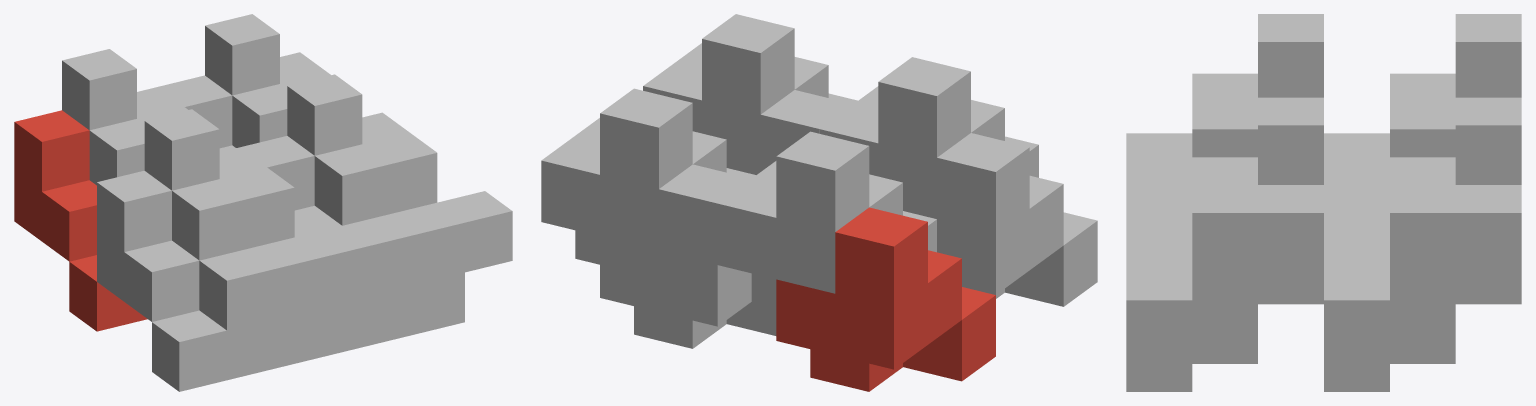
The model's file is tiling.obj.
3 views of the same model, side by side, from view 1: azimuth 30°, elevation 25°; view 2: azimuth 150°, elevation 25°; view 3: azimuth 270°, elevation 25° (orthographic). The views are drawn at different scales.
Visible parts, largest first — view 1: copy_1_domain_4, copy_1_domain_8, copy_1_domain_2, copy_1_domain_1, copy_1_domain_6, copy_1_domain_3, copy_1_domain_7, copy_1_domain_5; view 2: copy_1_domain_1, copy_1_domain_2, copy_1_domain_3, copy_1_domain_7, copy_1_domain_5, copy_1_domain_4, copy_1_domain_8, copy_1_domain_6; view 3: copy_1_domain_7, copy_1_domain_8, copy_1_domain_3, copy_1_domain_4, copy_1_domain_5, copy_1_domain_6.
Boxes of the visible parts, box(x1,y1,x2,y2) form: copy_1_domain_4: box(144, 109, 369, 330); copy_1_domain_8: box(287, 74, 512, 295); copy_1_domain_2: box(97, 170, 321, 391); copy_1_domain_1: box(14, 110, 147, 331); copy_1_domain_6: box(240, 136, 464, 356); copy_1_domain_3: box(62, 49, 187, 185); copy_1_domain_7: box(205, 14, 330, 147); copy_1_domain_5: box(157, 75, 235, 151); copy_1_domain_1: box(776, 207, 995, 391); copy_1_domain_2: box(937, 133, 1097, 306); copy_1_domain_3: box(717, 131, 936, 307); copy_1_domain_7: box(541, 88, 755, 264); copy_1_domain_5: box(600, 164, 776, 348); copy_1_domain_4: box(819, 57, 1038, 218); copy_1_domain_8: box(643, 14, 857, 174); copy_1_domain_6: box(760, 90, 852, 171); copy_1_domain_7: box(1324, 97, 1521, 359); copy_1_domain_8: box(1126, 97, 1323, 359); copy_1_domain_3: box(1324, 14, 1521, 216); copy_1_domain_4: box(1126, 14, 1323, 216); copy_1_domain_5: box(1324, 272, 1521, 391); copy_1_domain_6: box(1126, 272, 1323, 391).
Bounding box in the file's own units: 7 × 4 × 6.
